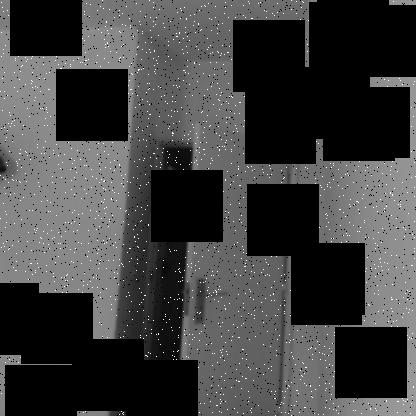Porte: (132, 121, 304, 415)
